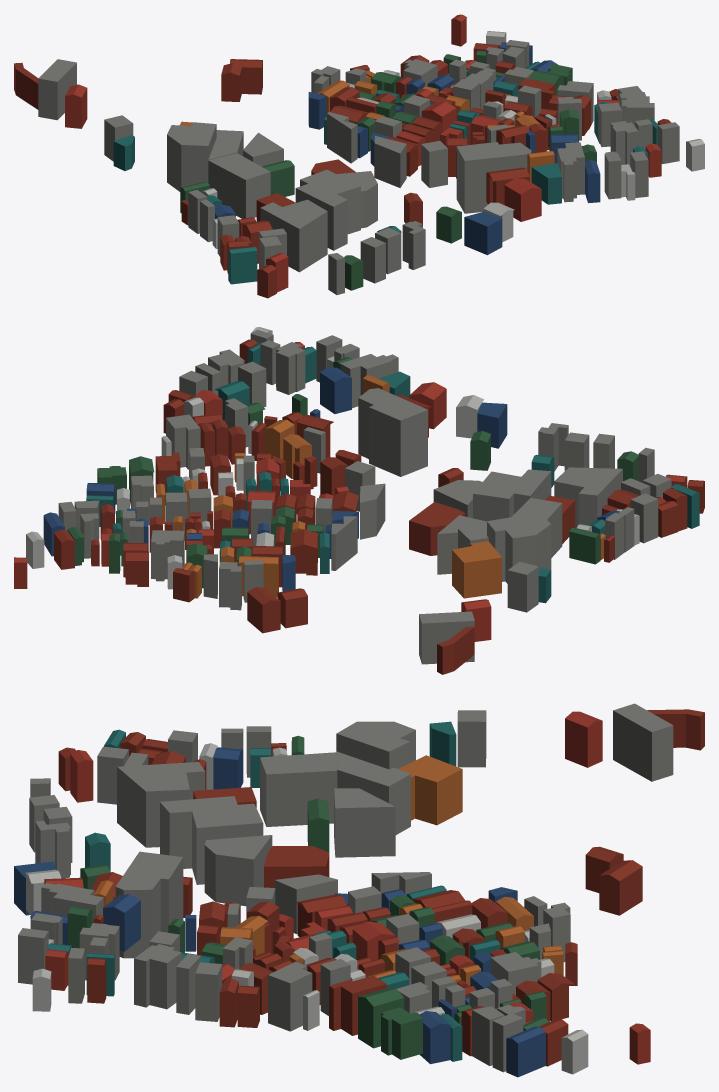
Rendered from near-17-109443-59471.22bd640e.glb.
The picture shows the model from 3 angles, top to bottom: view 1: azimuth 30°, elevation 25°; view 2: azimuth 150°, elevation 25°; view 3: azimuth 270°, elevation 25°; orthographic projection. The views are drawn at different scales.
Bounding box in the file's own units: 305 × 52.93 × 308.
